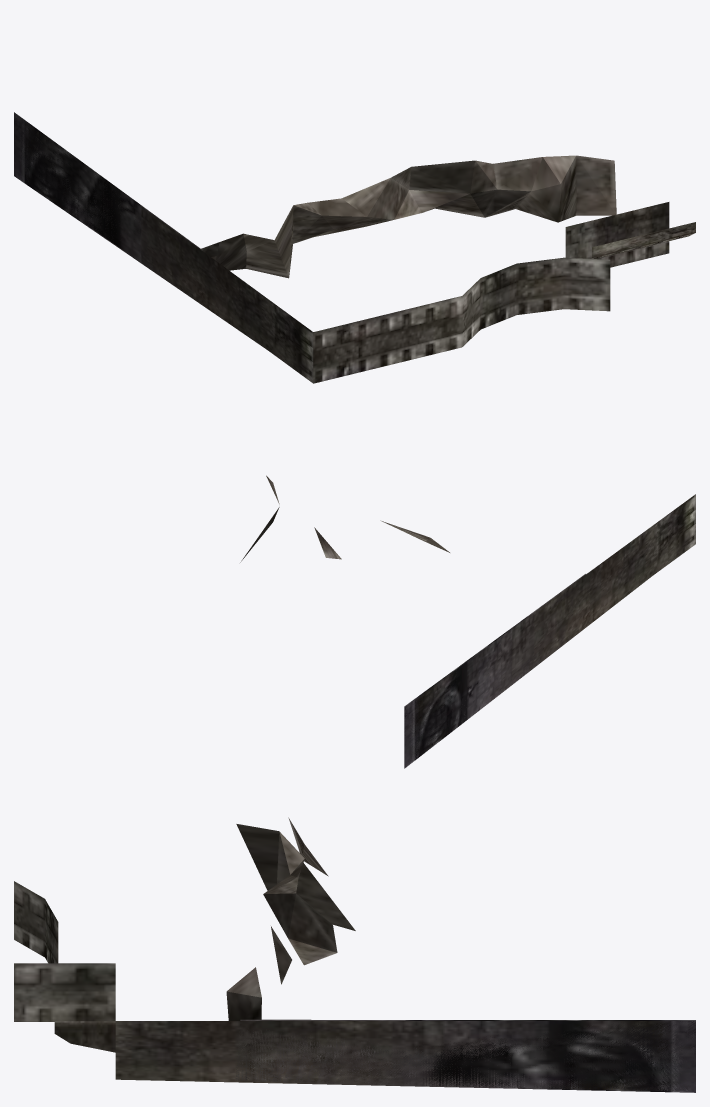
The model's file is Fort02.glb.
3 renders of one model, top to bottom at view 1: azimuth 30°, elevation 25°; view 2: azimuth 150°, elevation 25°; view 3: azimuth 270°, elevation 25°, orthographic. The views are drawn at different scales.
Parts seen in each view (by area): view 1: model_Fort02; view 2: model_Fort02; view 3: model_Fort02.
Boxes of the visible parts, left/top/right/bottom form: model_Fort02: left=14, top=112, right=695, bottom=383; model_Fort02: left=240, top=475, right=695, bottom=768; model_Fort02: left=14, top=817, right=695, bottom=1092.
Size of the model in its own units: 3.5 by 0.7119 by 4.53.
Materials: 3 (3 with a texture image).
